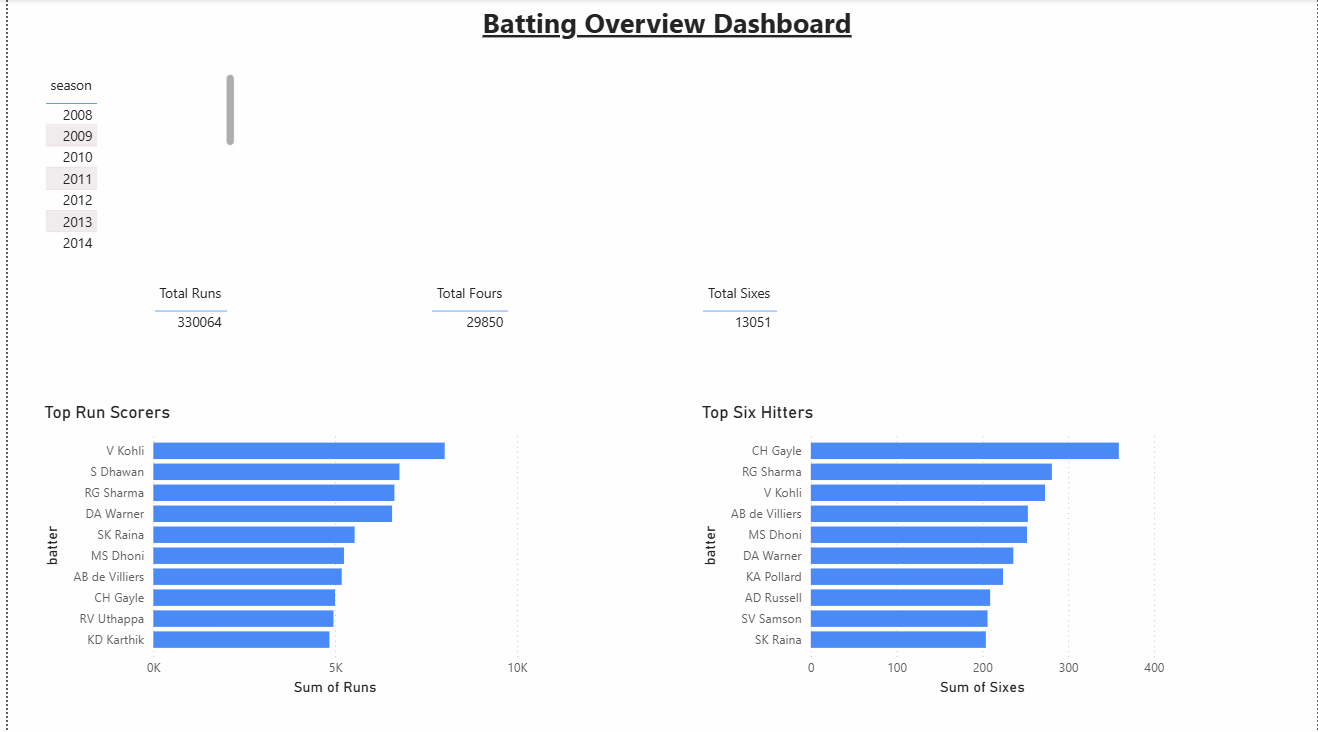

This screenshot's page, from the dashboard's own definition file:
{"tool":"powerbi","page":{"name":"Page 3","canvas":[1280,720],"ordinal":2},"visuals":[{"type":"textbox","box":[10,0,1270,68.8],"z":0},{"type":"tableEx","fields":{"Values":["matches_cleaned.season"]},"box":[30,68.8,196.2,182.5],"z":3000},{"type":"tableEx","fields":{"Values":["Sum(deliveries_cleaned.batsman_runs)"]},"box":[137.5,271.2,121.2,88.8],"z":3001},{"type":"tableEx","fields":{"Values":["Sum(Batting Summary.Fours)"]},"box":[408.8,271.2,115,88.8],"z":3002},{"type":"tableEx","fields":{"Values":["Sum(Batting Summary.Sixes)"]},"box":[673.8,271.2,118.8,88.8],"z":3003},{"type":"barChart","title":"Top Run Scorers","fields":{"Category":["Batting Summary.batter"],"Y":["Sum(Batting Summary.Runs)"]},"box":[30,393.8,482.5,292.5],"z":3004},{"type":"barChart","title":"Top Six Hitters","fields":{"Category":["Batting Summary.batter"],"Y":["Sum(Batting Summary.Sixes)"]},"box":[673.8,393.8,462.5,292.5],"z":3005}]}

Visuals, with their boxes in screenshot pixels (x1, y1, x2, y2), scaled from the page's 1280x720 canvas onto the 1318x732 screenshot:
textbox: [10, 0, 1317, 70]
tableEx - matches_cleaned.season: [31, 70, 233, 255]
tableEx - Sum(deliveries_cleaned.batsman_runs): [142, 276, 266, 366]
tableEx - Sum(Batting Summary.Fours): [421, 276, 539, 366]
tableEx - Sum(Batting Summary.Sixes): [694, 276, 816, 366]
"Top Run Scorers" barChart: [31, 400, 528, 698]
"Top Six Hitters" barChart: [694, 400, 1170, 698]
